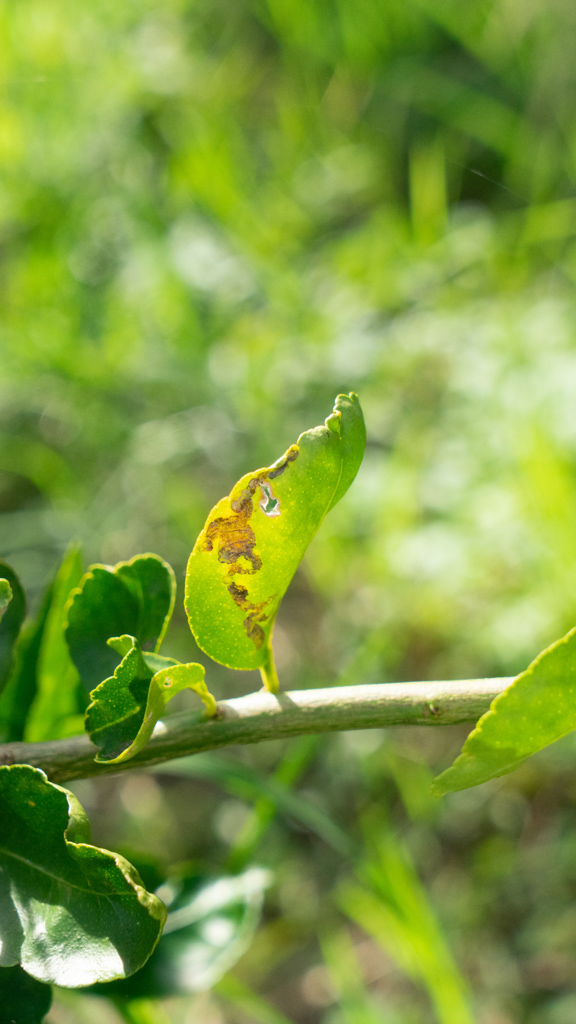Canker: (195, 451, 302, 580), (225, 580, 268, 659)
